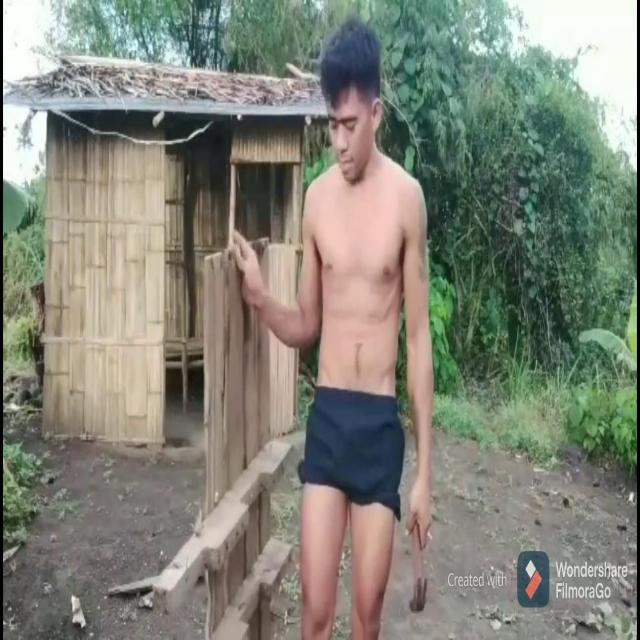hammer: (408, 512, 430, 618)
